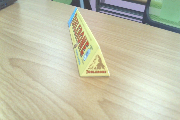Chocolate: (58, 5, 117, 84)
